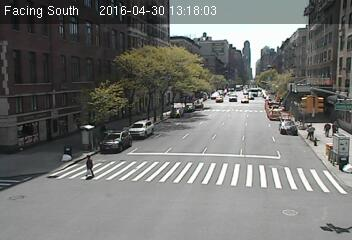neg: (217, 156, 265, 220), (325, 199, 351, 238), (56, 139, 78, 169), (8, 144, 23, 164), (140, 106, 154, 125), (30, 128, 44, 146), (135, 120, 148, 136), (168, 101, 180, 118), (306, 217, 316, 231), (180, 92, 187, 100), (156, 103, 162, 112), (213, 77, 218, 84)
